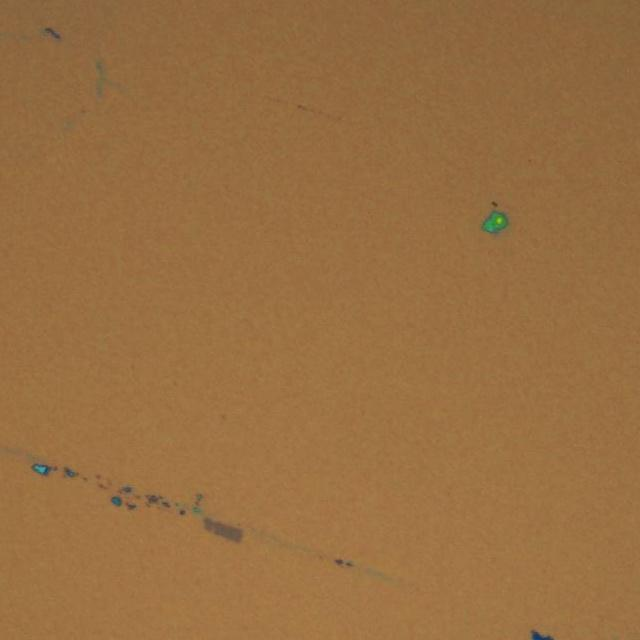monolayer-eWW4: (202, 516, 244, 544)
